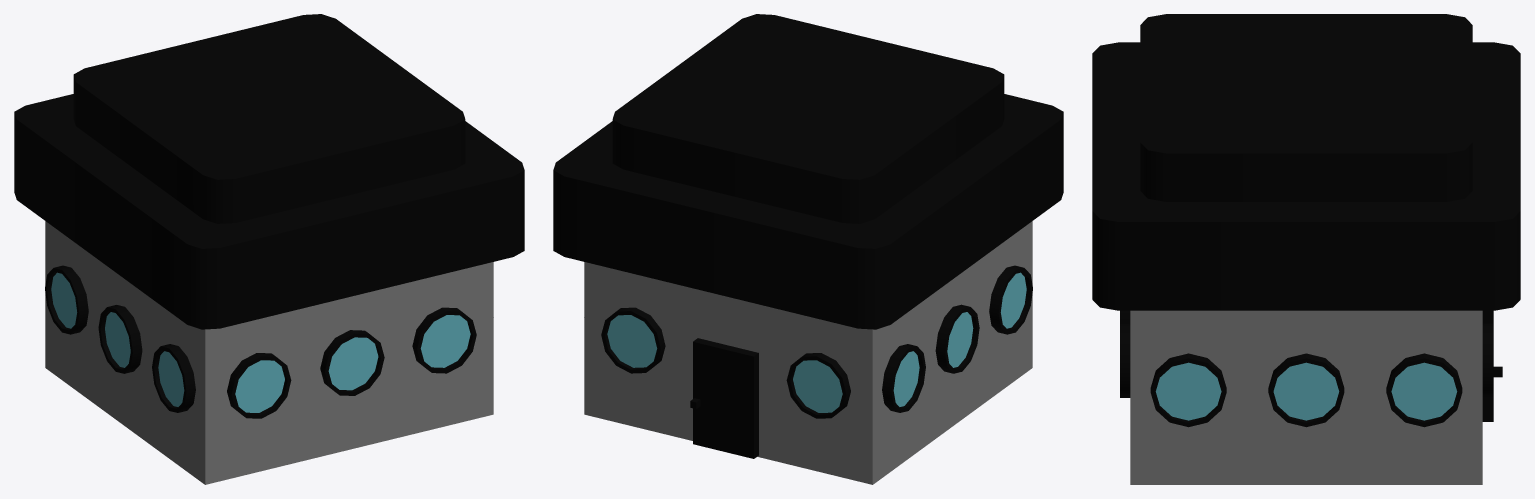
The model's file is House26.fbx.
3 renders of one model, left to right at view 1: azimuth 30°, elevation 25°; view 2: azimuth 150°, elevation 25°; view 3: azimuth 270°, elevation 25°, orthographic. The views are drawn at different scales.
Visible parts, largest first — view 1: House.026; view 2: House.026; view 3: House.026.
Part boxes in pixels (<box>): House.026: <box>14,14,524,484</box>; House.026: <box>553,14,1063,484</box>; House.026: <box>1092,14,1520,484</box>.
Size of the model in its own units: 746 by 626 by 750.
